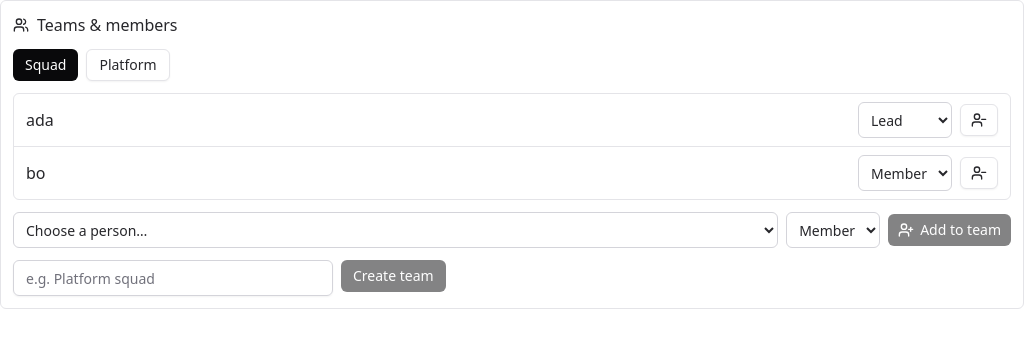
Test case: OrganizationTeamsPanel as an admin › falls back to a generic message for an error without text
The image size is (1024, 358).
Step 1. Select "Viewer" in the dropdown named "Role for bo" → coordinates (905, 173), box [858, 155, 952, 191]
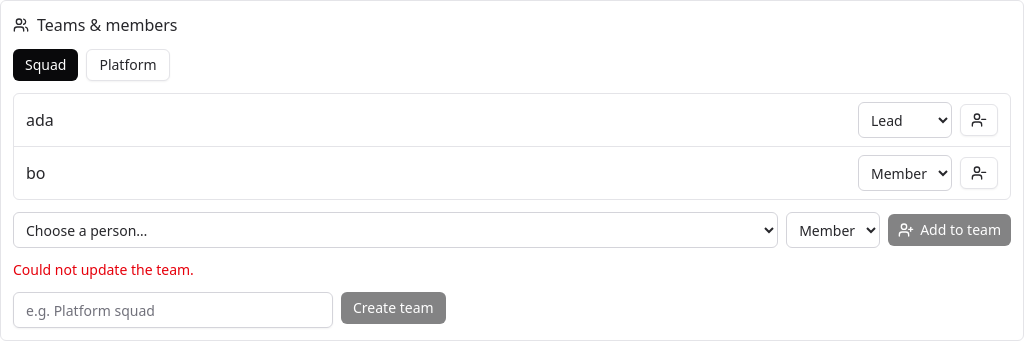
Expected: the message reads "Could not update the team.", [13, 260, 194, 279]
